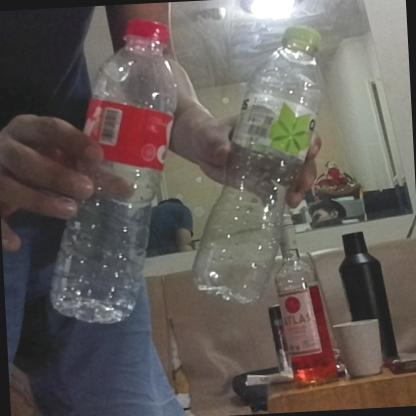plastic_bottles: (38, 18, 194, 331), (176, 28, 339, 302)
